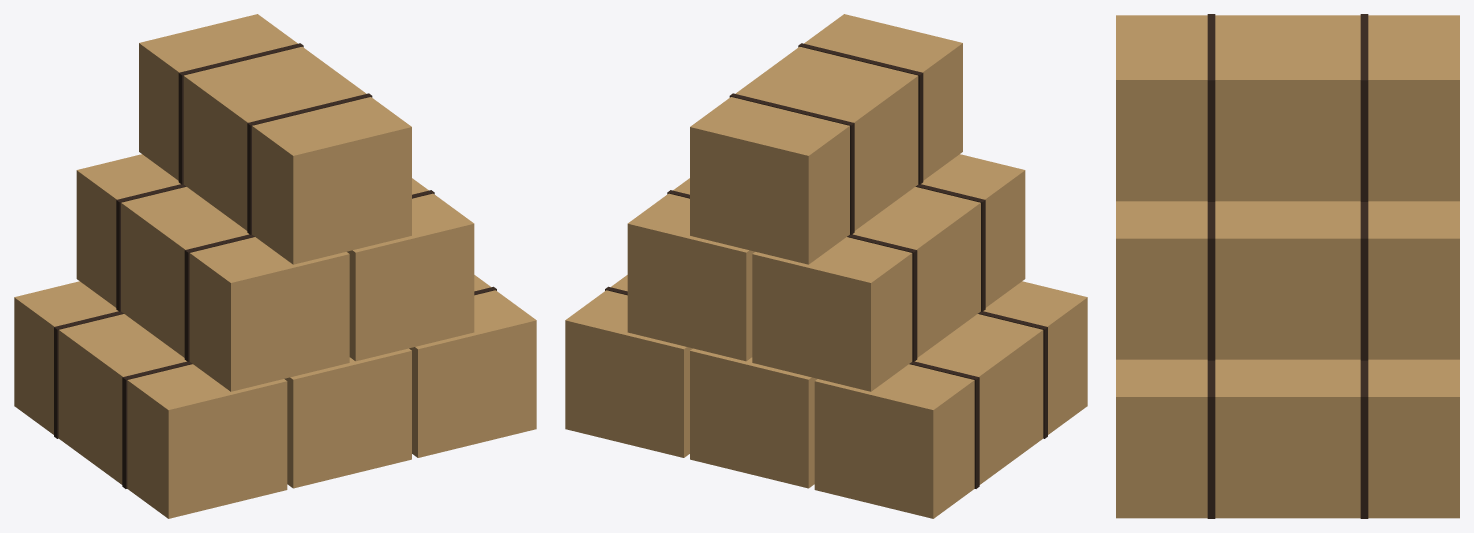
File: hay_stack.glb
The picture shows the model from 3 angles, left to right: view 1: azimuth 30°, elevation 25°; view 2: azimuth 150°, elevation 25°; view 3: azimuth 270°, elevation 25°; orthographic projection. The views are drawn at different scales.
Parts seen in each view (by area): view 1: hay_stack; view 2: hay_stack; view 3: hay_stack.
Part boxes in pixels (<box>): hay_stack: <box>14,14,536,518</box>; hay_stack: <box>565,14,1087,518</box>; hay_stack: <box>1116,14,1459,518</box>.
Size of the model in its own units: 1.25 by 1.07 by 0.9.
1 material, 1 textured.
